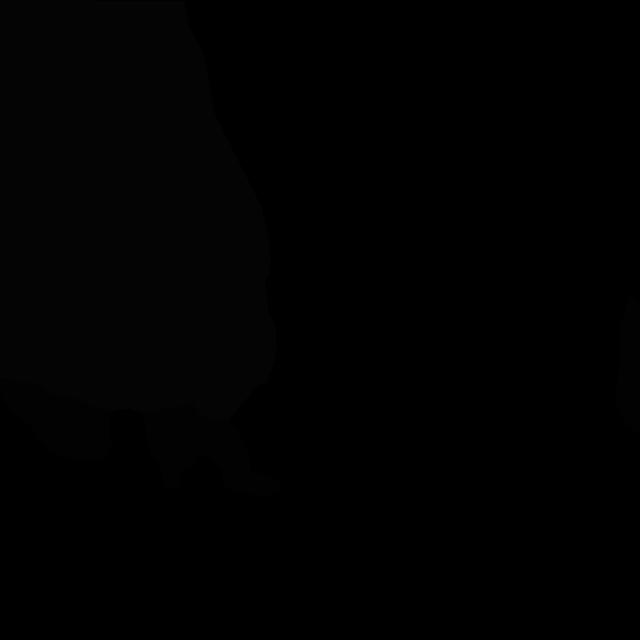cardboard: (143, 402, 281, 497), (0, 379, 116, 461), (615, 295, 640, 435)
soft_plastic: (0, 0, 277, 422)
